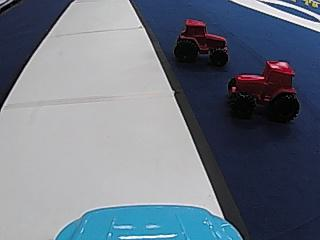Tracktor: (224, 57, 300, 121), (174, 17, 229, 65)
